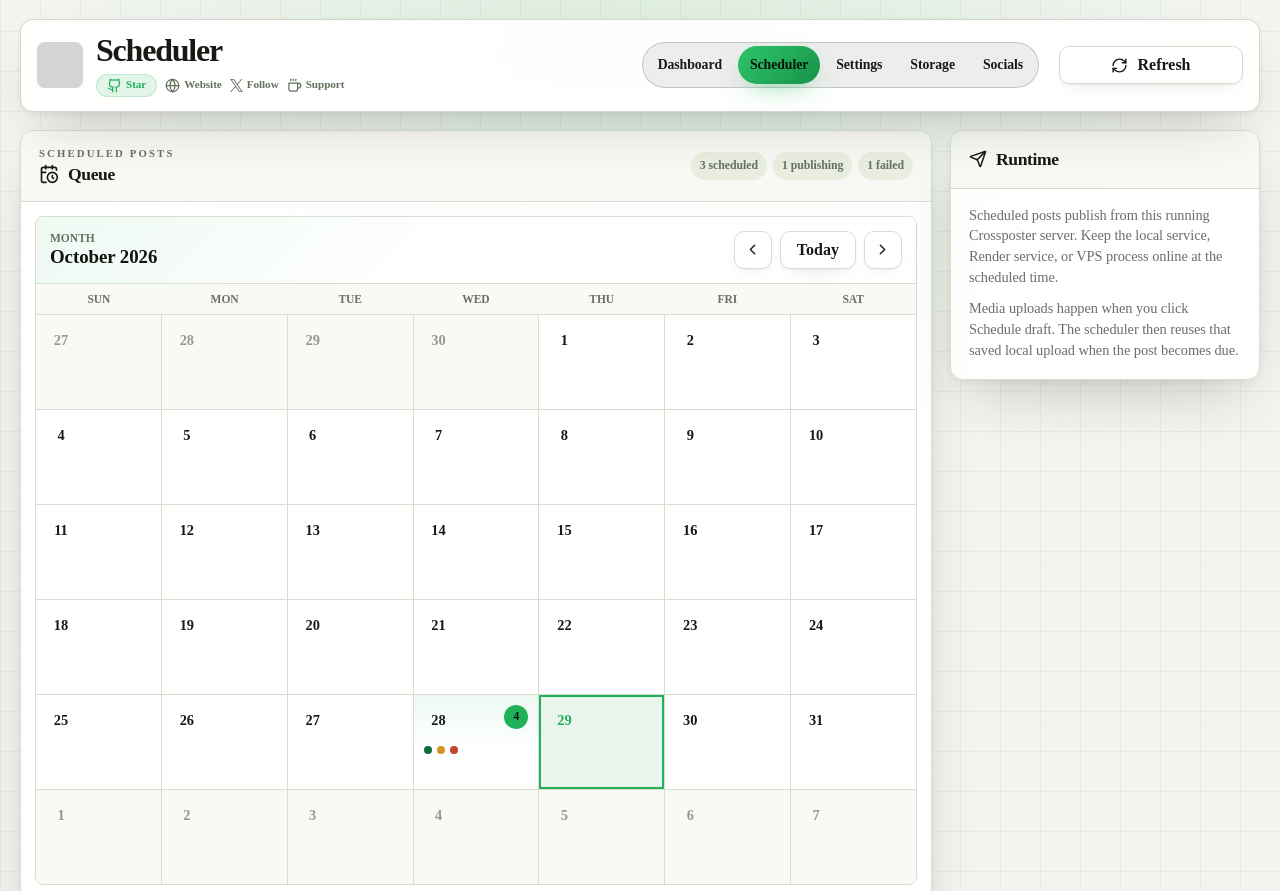
Test case: retains edits across refresh, including server reschedules, and sends browser-local edits as UTC
Click the button named "10/28/2026:" at (476, 742), box [414,695,538,789]
(page scrolled)
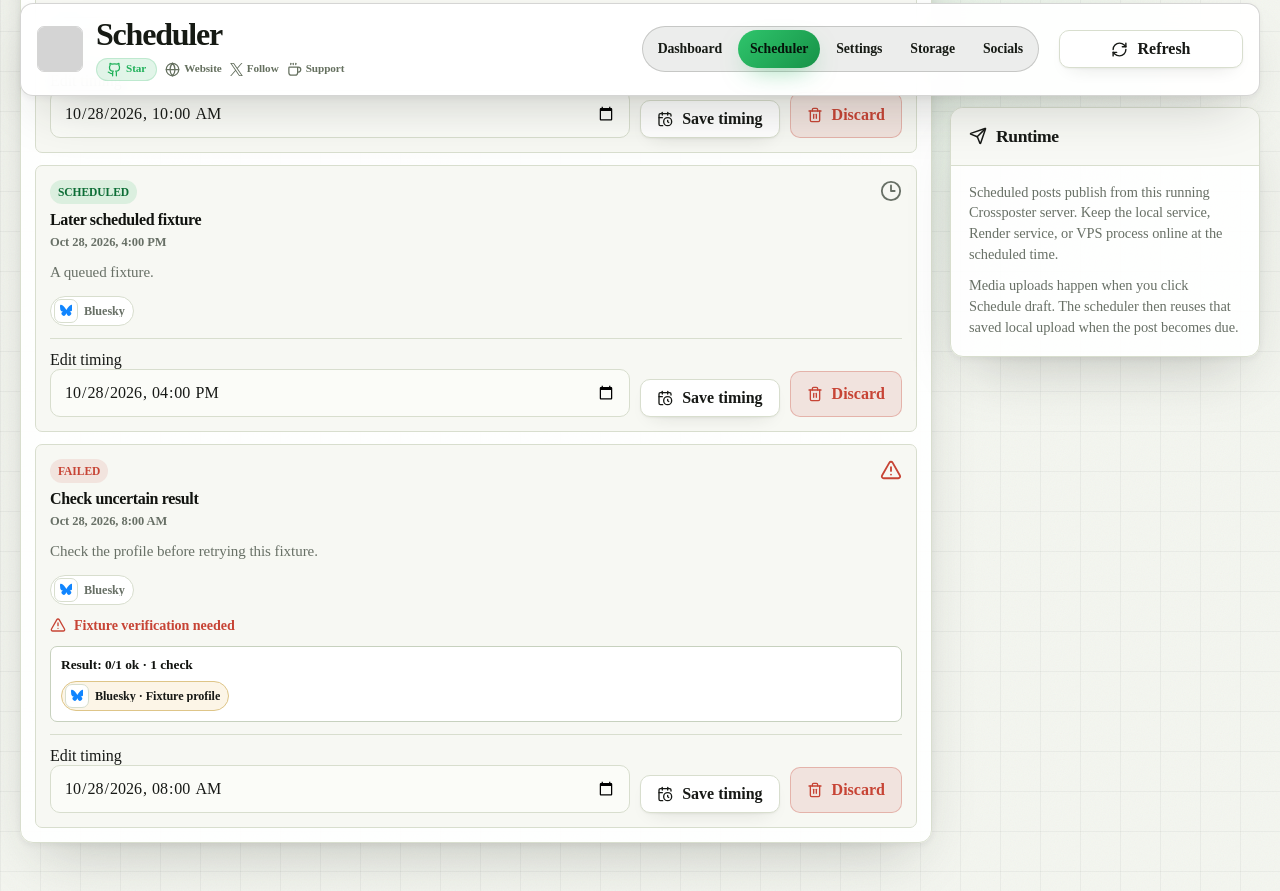
Replace the text in the field labelled "Edit timing" below "· Fixture profile" with "2026-10-28T18:45" at (340, 789), box [50,765,630,813]
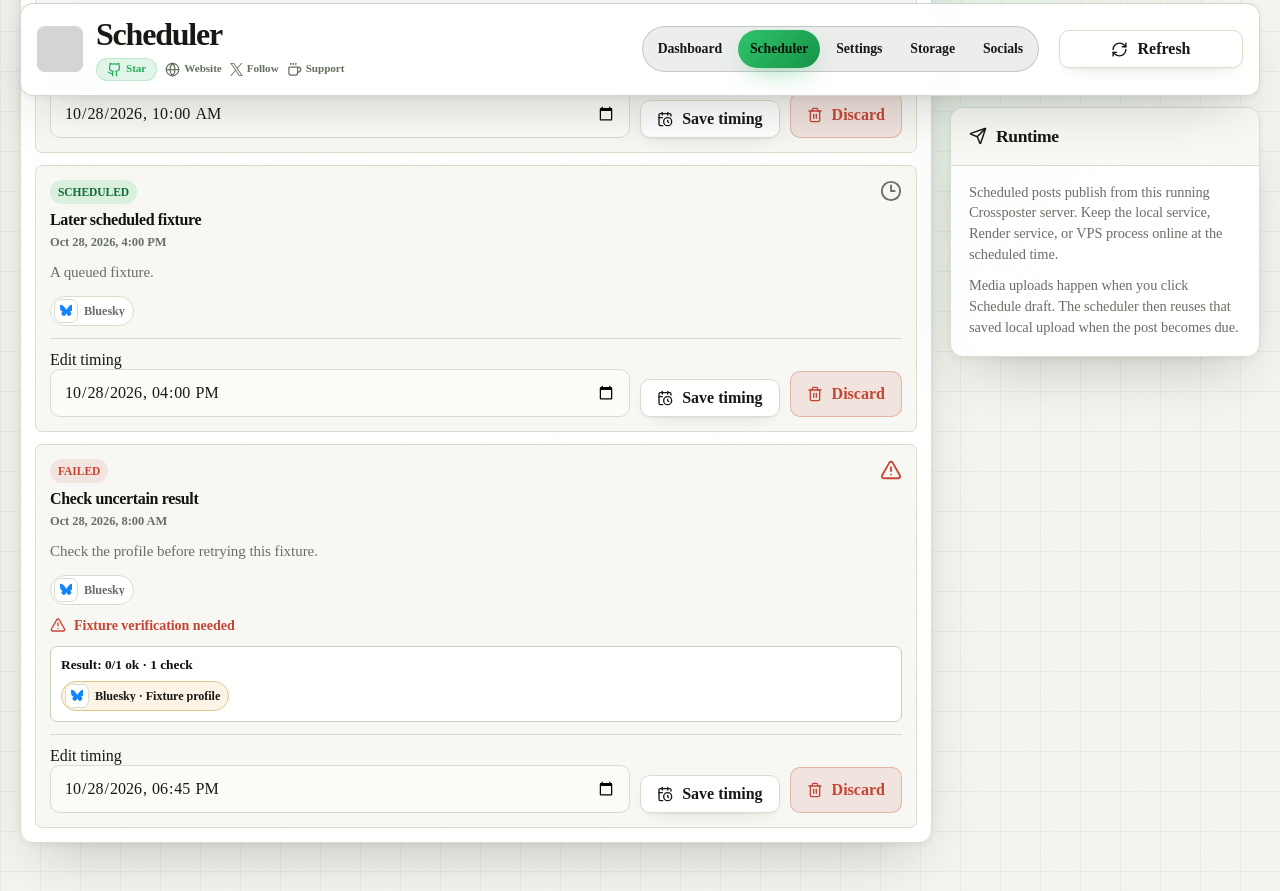
Click the button "Refresh" at (1151, 49), box [1059,30,1243,68]
(page scrolled)
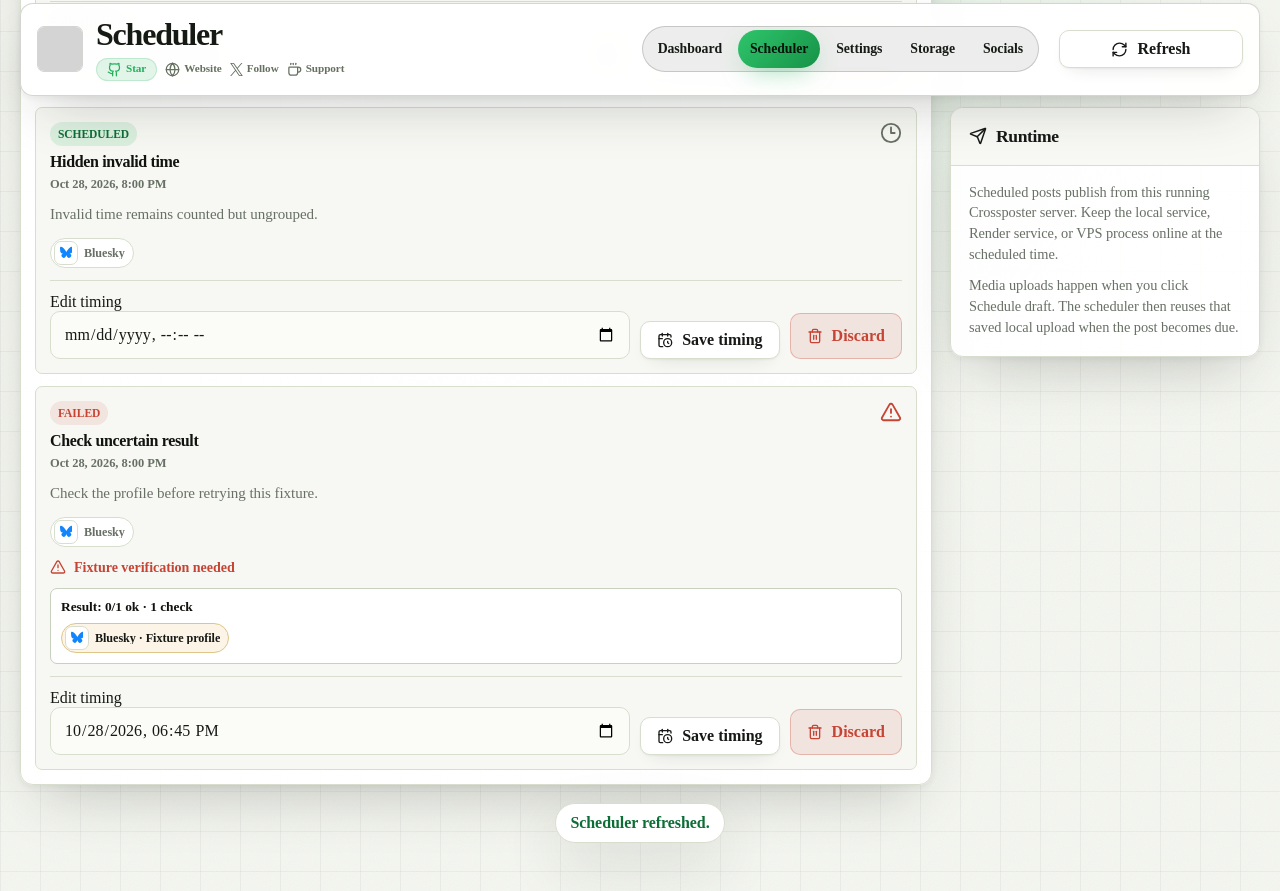
Result: the text "Scheduler refreshed." is shown at [555,803,725,843]
Click the 2nd button "Save timing" at (710, 736), box [640,717,780,755]
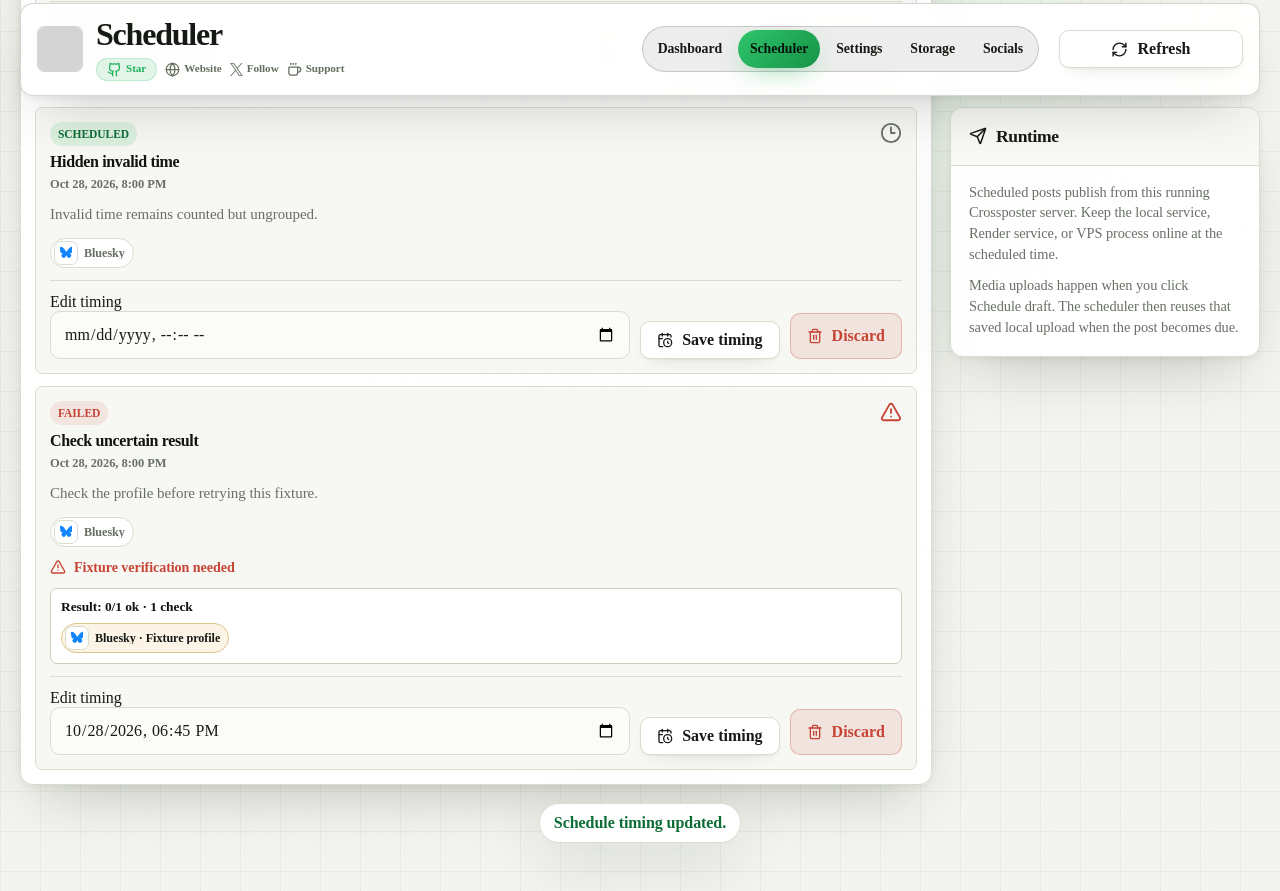
Result: the text "Schedule timing updated." is shown at [539,803,741,843]
